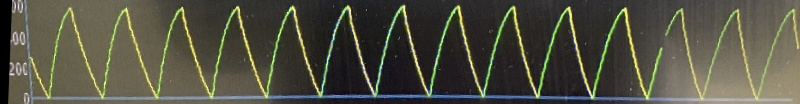normal_volume: (42, 0, 783, 104)
